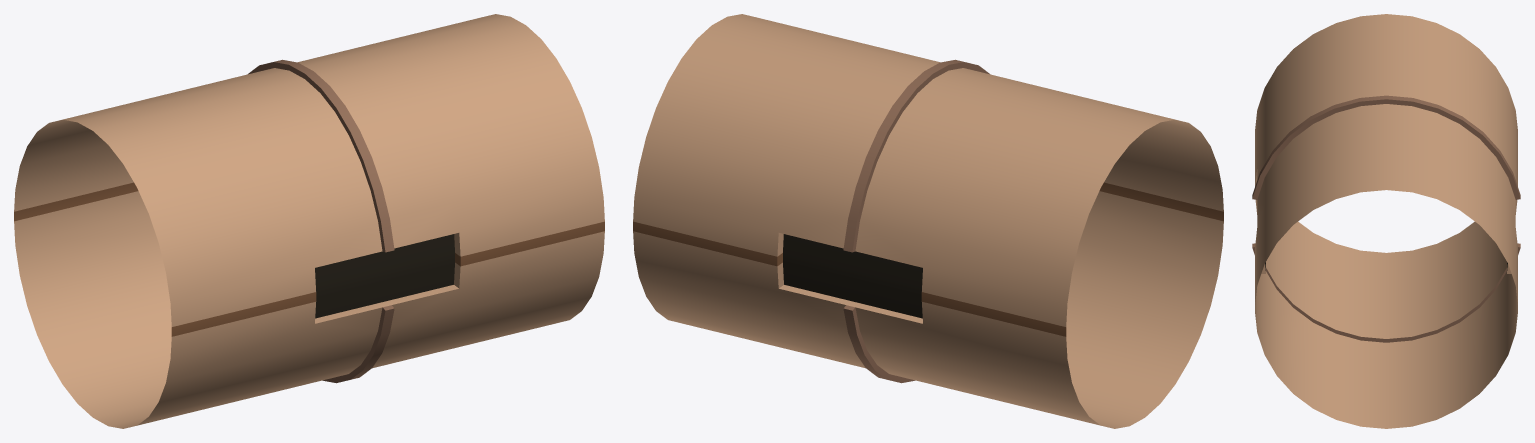
Rendered from quaternius-ultimate-space-connector.glb.
The picture shows the model from 3 angles, left to right: view 1: azimuth 30°, elevation 25°; view 2: azimuth 150°, elevation 25°; view 3: azimuth 270°, elevation 25°; orthographic projection. The views are drawn at different scales.
Visible parts, largest first — view 1: Connector; view 2: Connector; view 3: Connector.
Boxes of the visible parts, bbox=[...] form: Connector: bbox=[14, 14, 604, 428]; Connector: bbox=[633, 14, 1223, 428]; Connector: bbox=[1252, 14, 1520, 428].
Size of the model in its own units: 3.37 by 2.21 by 2.17.
1 material, 1 textured.
